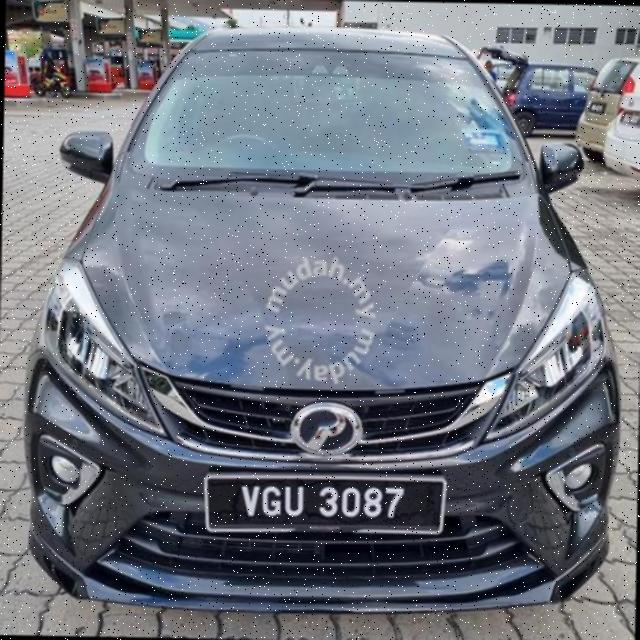License_Plate: (199, 472, 456, 540)
car: (15, 13, 635, 618)
